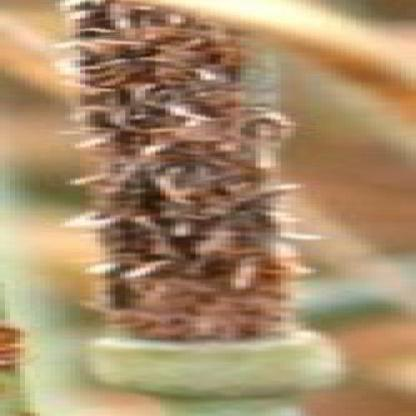wheat Stem Rust: (108, 55, 255, 335), (68, 3, 214, 47)
